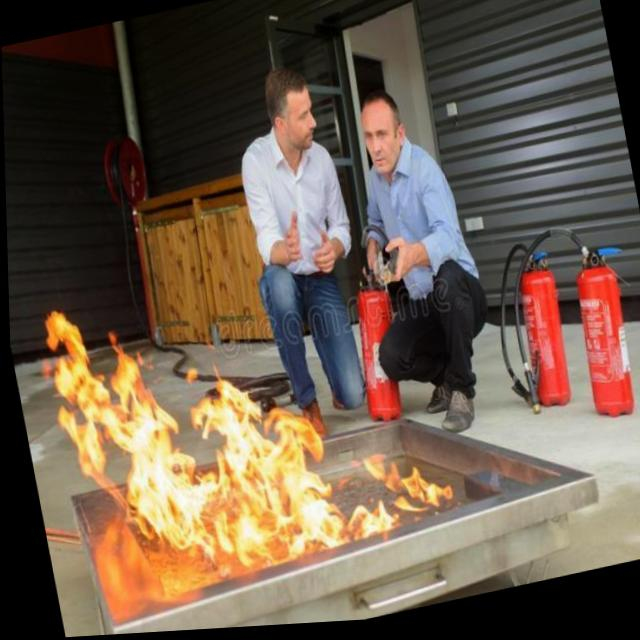FireExtinguisher: (492, 210, 640, 448), (475, 236, 576, 424), (335, 272, 414, 432)
